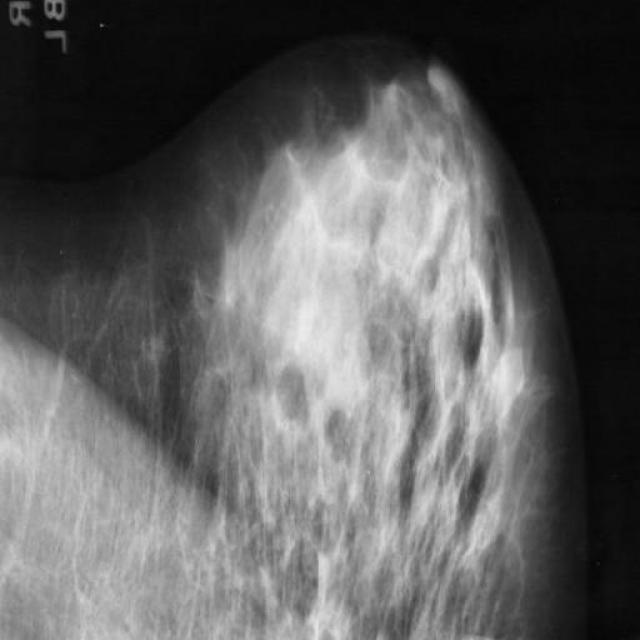cancer: (338, 112, 382, 200)
